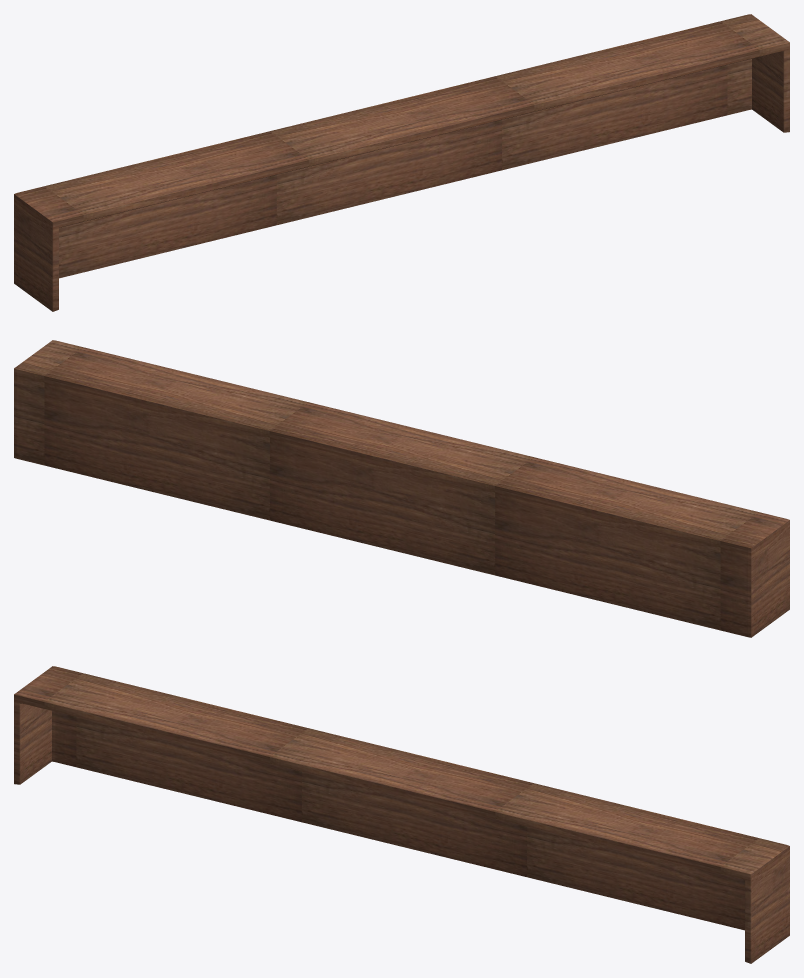
Rendered from LARGE_TABLE_02.fbx.
The picture shows the model from 3 angles, top to bottom: view 1: azimuth 30°, elevation 25°; view 2: azimuth 150°, elevation 25°; view 3: azimuth 330°, elevation 25°; orthographic projection.
Visible parts, largest first — view 1: LARGE_TABLE_02; view 2: LARGE_TABLE_02; view 3: LARGE_TABLE_02.
Part boxes in pixels (x1=…): LARGE_TABLE_02: x1=14, y1=14, x2=789, y2=311; LARGE_TABLE_02: x1=14, y1=340, x2=789, y2=637; LARGE_TABLE_02: x1=14, y1=666, x2=789, y2=963.
Size of the model in its own units: 849 by 98.95 by 77.82.
